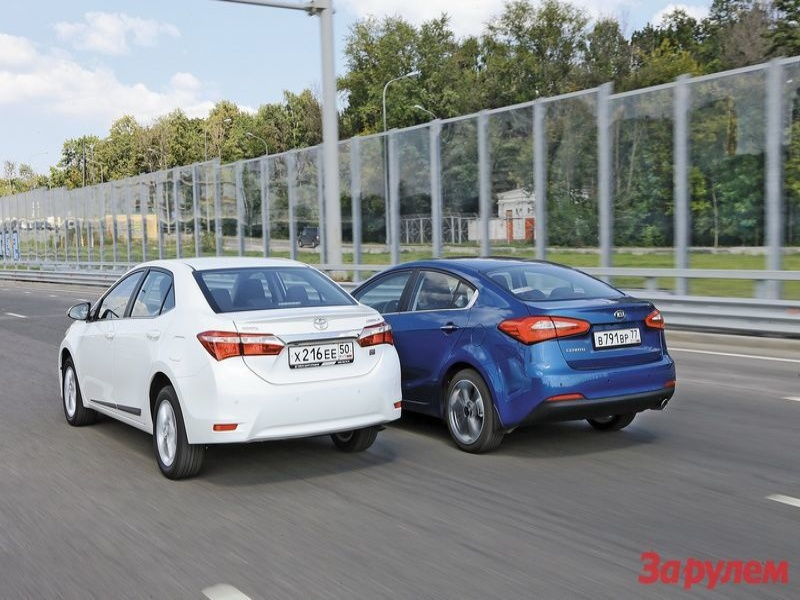car: (59, 258, 403, 480), (350, 258, 675, 453)
plate: (287, 341, 353, 366), (594, 328, 640, 347)
